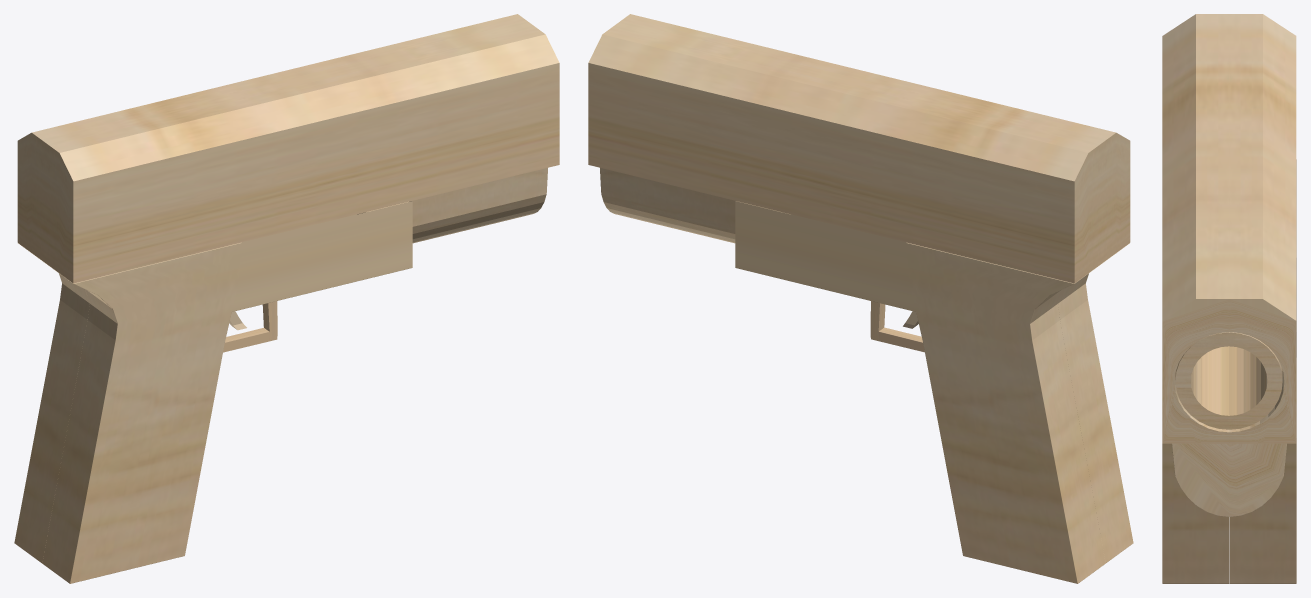
File: jyuu.glb
The picture shows the model from 3 angles, left to right: view 1: azimuth 30°, elevation 25°; view 2: azimuth 150°, elevation 25°; view 3: azimuth 270°, elevation 25°; orthographic projection. The views are drawn at different scales.
Parts seen in each view (by area): view 1: Cube.001, Cylinder, Cube.002; view 2: Cube.001, Cylinder, Cube.002; view 3: Cube.001, Cylinder, Cylinder.001.
Part boxes in pixels (x1,y1,x2,y2): Cube.001: (17,14,559,283); Cylinder: (14,168,547,583); Cube.002: (223,301,277,352); Cube.001: (588,14,1130,283); Cylinder: (600,168,1133,583); Cube.002: (870,301,924,352); Cube.001: (1162,14,1296,443); Cylinder: (1162,159,1296,583); Cylinder.001: (1175,332,1282,429).
Size of the model in its own units: 8.52 by 6.98 by 1.68.
1 material, 1 textured.
